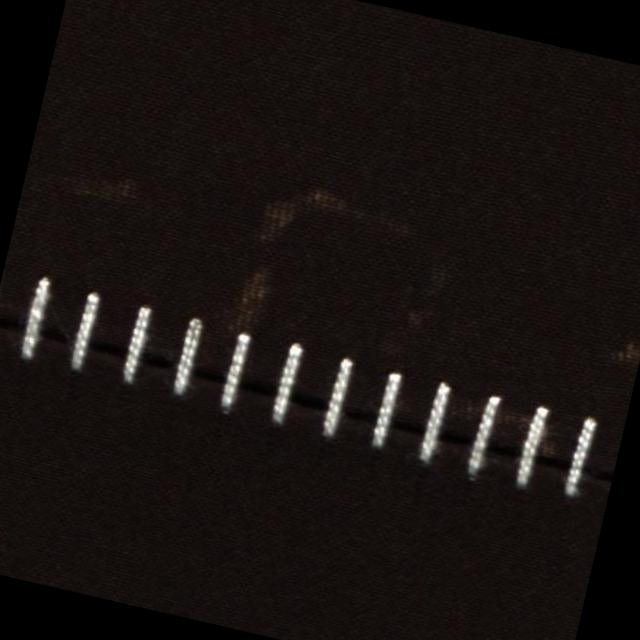gray stitch: (2, 259, 610, 512)
